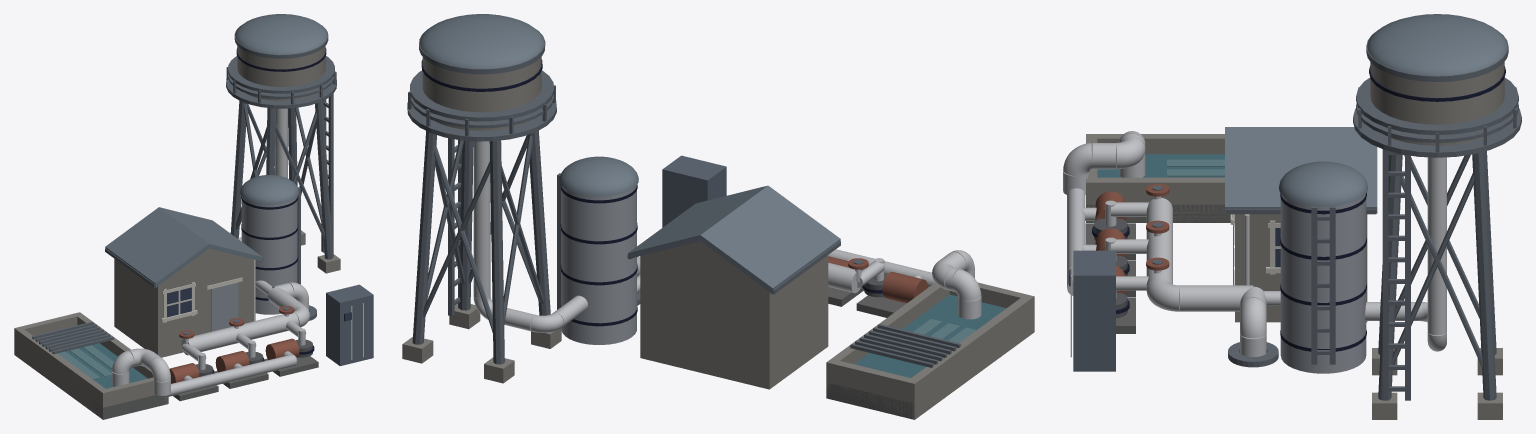
Rendered from water_pump_lvl3.glb.
The picture shows the model from 3 angles, left to right: view 1: azimuth 30°, elevation 25°; view 2: azimuth 150°, elevation 25°; view 3: azimuth 270°, elevation 25°; orthographic projection. The views are drawn at different scales.
Parts seen in each view (by area): view 1: water_pump; view 2: water_pump; view 3: water_pump.
Part boxes in pixels (x1,y1,x2,y2): water_pump: (14, 14, 373, 419); water_pump: (402, 14, 1034, 419); water_pump: (1063, 14, 1521, 419).
Size of the model in its own units: 1 by 0.665 by 0.7651.
